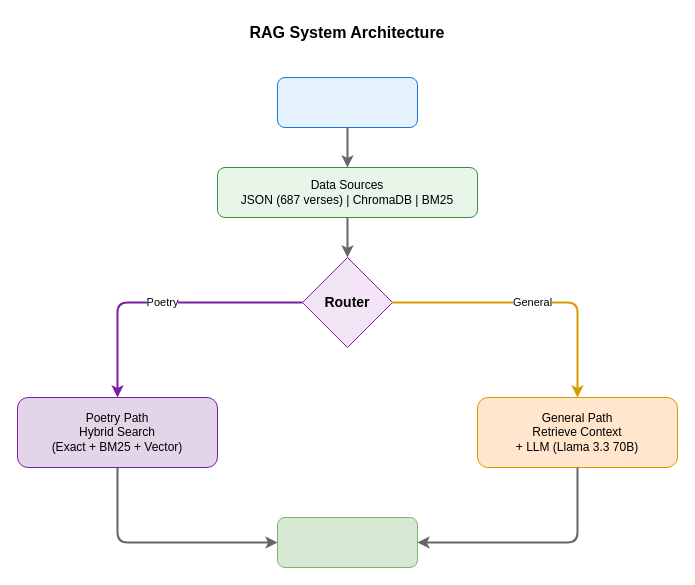
This 695x585 diagram has some shape labels left out. The centre of each missing label's shape, as x and y in pixels:
Response: (347,542)
User Query: (347,102)
